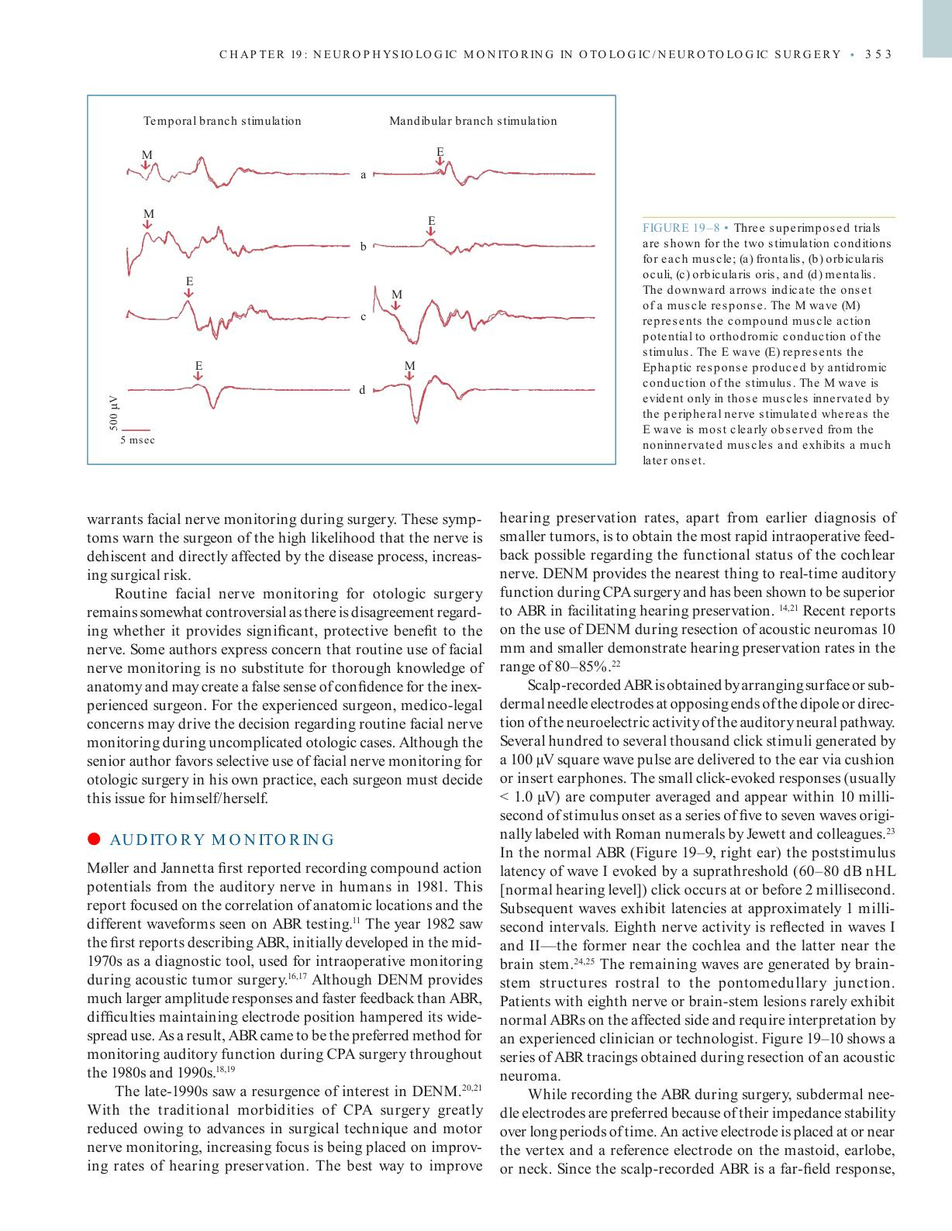caption: (641, 221, 893, 466)
header: (217, 48, 842, 59)
image: (95, 104, 608, 460)
section-heading: (109, 831, 335, 847)
text: (498, 508, 898, 1180), (84, 858, 484, 1177), (84, 510, 486, 806)
